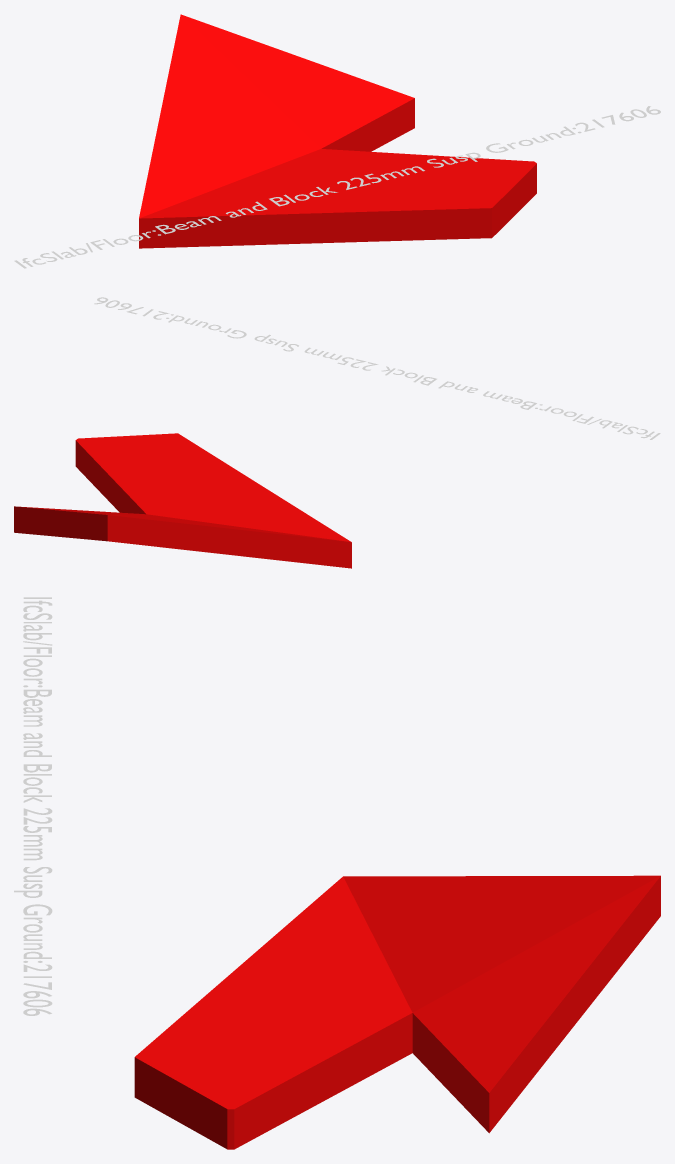
File: revit2014_multiple_bounded_halfspaces.ifc.glb
3 renders of one model, top to bottom at view 1: azimuth 30°, elevation 25°; view 2: azimuth 150°, elevation 25°; view 3: azimuth 270°, elevation 25°, orthographic. The views are drawn at different scales.
Parts seen in each view (by area): view 1: IfcSlab/Floor:Beam and Block 225mm Susp Ground:217606, IfcSlab/Floor:Beam and Block 225mm Susp Ground:217606_label; view 2: IfcSlab/Floor:Beam and Block 225mm Susp Ground:217606, IfcSlab/Floor:Beam and Block 225mm Susp Ground:217606_label; view 3: IfcSlab/Floor:Beam and Block 225mm Susp Ground:217606, IfcSlab/Floor:Beam and Block 225mm Susp Ground:217606_label.
Part boxes in pixels (x1,y1,x2,y2): IfcSlab/Floor:Beam and Block 225mm Susp Ground:217606: (139,14,536,248); IfcSlab/Floor:Beam and Block 225mm Susp Ground:217606_label: (14,106,660,268); IfcSlab/Floor:Beam and Block 225mm Susp Ground:217606: (14,433,351,568); IfcSlab/Floor:Beam and Block 225mm Susp Ground:217606_label: (94,297,660,439); IfcSlab/Floor:Beam and Block 225mm Susp Ground:217606: (134,875,660,1149); IfcSlab/Floor:Beam and Block 225mm Susp Ground:217606_label: (14,597,52,1015).
Bounding box in the file's own units: 7.12 × 1.32 × 4.65.
